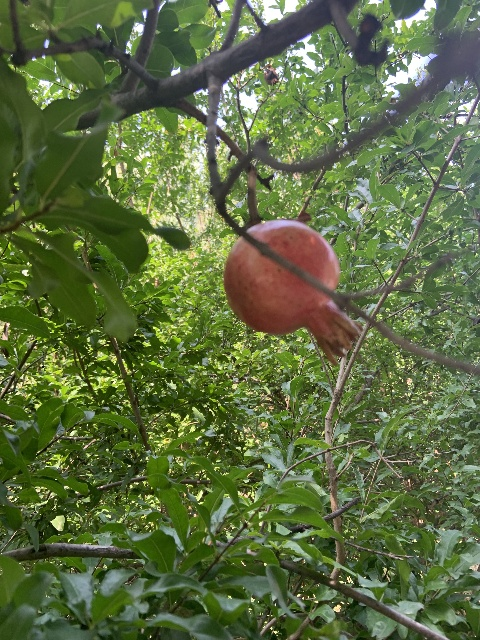ripe: (222, 219, 361, 364)
